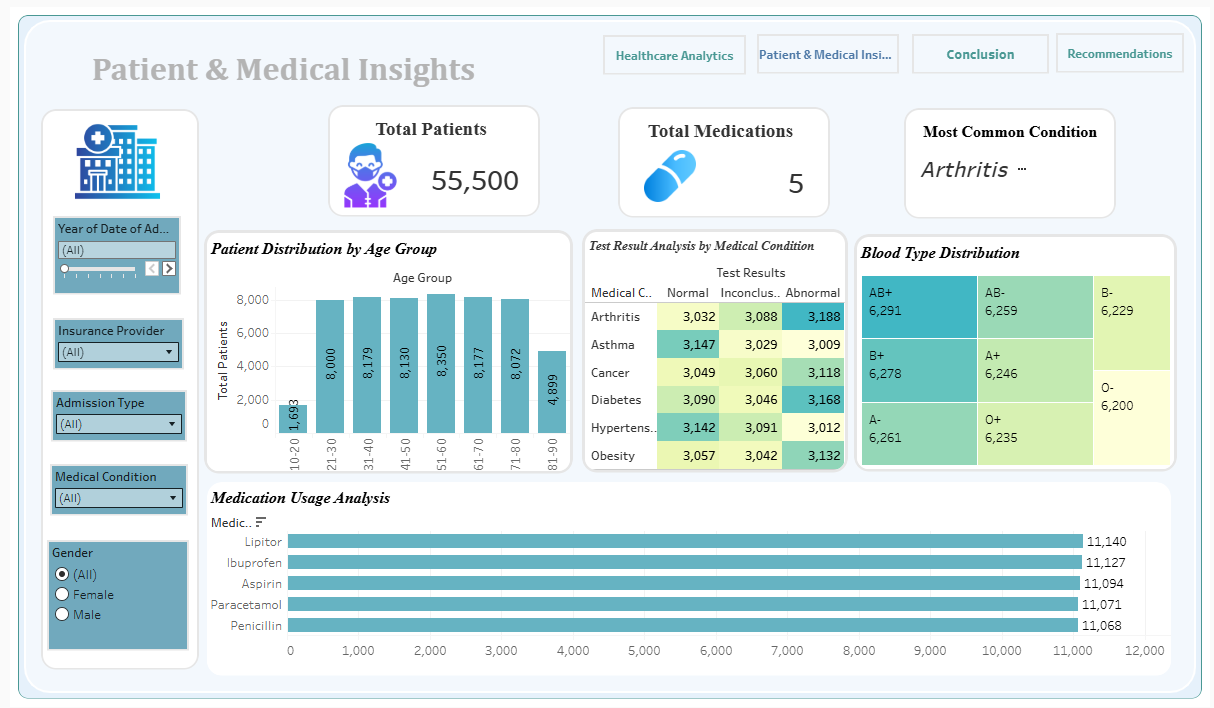

What the dashboard file says about the page in this screenshot:
{"tool":"tableau","page":{"name":"Patient & Medical Insights Dashboard","canvas":[1200,700],"ordinal":2},"visuals":[{"type":"worksheet","title":"Sheet 20","mark":"Automatic","box":[9,9,1182,682]},{"type":"dashboard-object","box":[1046,26,128,40]},{"type":"dashboard-object","box":[747,27,142,40]},{"type":"dashboard-object","box":[902,27,137,40]},{"type":"dashboard-object","box":[593,28,143,40]},{"type":"text","box":[77.5,37.8,472.4,46]},{"type":"blank","box":[895,96,212,111]},{"type":"blank","box":[318,98,212,112]},{"type":"blank","box":[608,100,212,111]},{"type":"blank","box":[31,101.7,158.1,561.7]},{"type":"worksheet","title":"common condition","mark":"Automatic","box":[902,104,196,97]},{"type":"worksheet","title":"Total Patients- KPI","mark":"Automatic","box":[329,105,184,96]},{"type":"worksheet","title":"total medication","mark":"Automatic","box":[623,107,175,99]},{"type":"image","param":"Image/hospital (3).png","box":[62.3,108.8,94.5,91]},{"type":"image","param":"Image/patient (2).png","box":[328,136,67,65]},{"type":"image","param":"Image/capsule.png","box":[634,143,52,56]},{"type":"filter","title":"Age Distribution","param":"[federated.0k48ogp1yjx14319g9uyu1gfnicz].[yr:Date of Admission:ok]","box":[43,209,128,79]},{"type":"worksheet","title":"Test Results Heatmap","mark":"Square","rows":["Medical Condition"],"cols":["Test Results"],"box":[571.6,222.3,266.7,243.6]},{"type":"worksheet","title":"Age Distribution","mark":"Bar","rows":["Calculation_6248867277987843"],"cols":["Calculation_6966024028995584"],"box":[194.3,223.5,369,243.6]},{"type":"worksheet","title":"Blood Type Distribution","mark":"Automatic","box":[843.6,227,323.1,237.7]},{"type":"filter","title":"Age Distribution","param":"[federated.0k48ogp1yjx14319g9uyu1gfnicz].[none:Insurance Provider:nk]","box":[43,311,131,52]},{"type":"filter","title":"Age Distribution","param":"[federated.0k48ogp1yjx14319g9uyu1gfnicz].[none:Admission Type:nk]","box":[41,383,136,52]},{"type":"filter","title":"Age Distribution","param":"[federated.0k48ogp1yjx14319g9uyu1gfnicz].[none:Medical Condition:nk]","box":[40,457,138,52]},{"type":"worksheet","title":"Top Medications Analysis","mark":"Bar","rows":["Medication"],"cols":["Calculation_6248867277987843"],"box":[197.4,475.3,963.1,193.9]},{"type":"filter","title":"Age Distribution","param":"[federated.0k48ogp1yjx14319g9uyu1gfnicz].[none:Gender:nk]","box":[37,533,142,111]}]}

Visuals, with their boxes in screenshot pixels (x1, y1, x2, y2), scaled from the page's 1200x700 canvas onto the 1214x708 screenshot:
"Sheet 20" worksheet: (left=9, top=9, right=1205, bottom=699)
dashboard-object: (left=1058, top=26, right=1188, bottom=67)
dashboard-object: (left=756, top=27, right=899, bottom=68)
dashboard-object: (left=913, top=27, right=1051, bottom=68)
dashboard-object: (left=600, top=28, right=745, bottom=69)
text: (left=78, top=38, right=556, bottom=85)
blank: (left=905, top=97, right=1120, bottom=209)
blank: (left=322, top=99, right=536, bottom=212)
blank: (left=615, top=101, right=830, bottom=213)
blank: (left=31, top=103, right=191, bottom=671)
"common condition" worksheet: (left=913, top=105, right=1111, bottom=203)
"Total Patients- KPI" worksheet: (left=333, top=106, right=519, bottom=203)
"total medication" worksheet: (left=630, top=108, right=807, bottom=208)
image: (left=63, top=110, right=159, bottom=202)
image: (left=332, top=138, right=400, bottom=203)
image: (left=641, top=145, right=694, bottom=201)
"Age Distribution" filter: (left=44, top=211, right=173, bottom=291)
"Test Results Heatmap" worksheet (Square marks): (left=578, top=225, right=848, bottom=471)
"Age Distribution" worksheet (Bar marks): (left=197, top=226, right=570, bottom=472)
"Blood Type Distribution" worksheet: (left=853, top=230, right=1180, bottom=470)
"Age Distribution" filter: (left=44, top=315, right=176, bottom=367)
"Age Distribution" filter: (left=41, top=387, right=179, bottom=440)
"Age Distribution" filter: (left=40, top=462, right=180, bottom=515)
"Top Medications Analysis" worksheet (Bar marks): (left=200, top=481, right=1174, bottom=677)
"Age Distribution" filter: (left=37, top=539, right=181, bottom=651)
